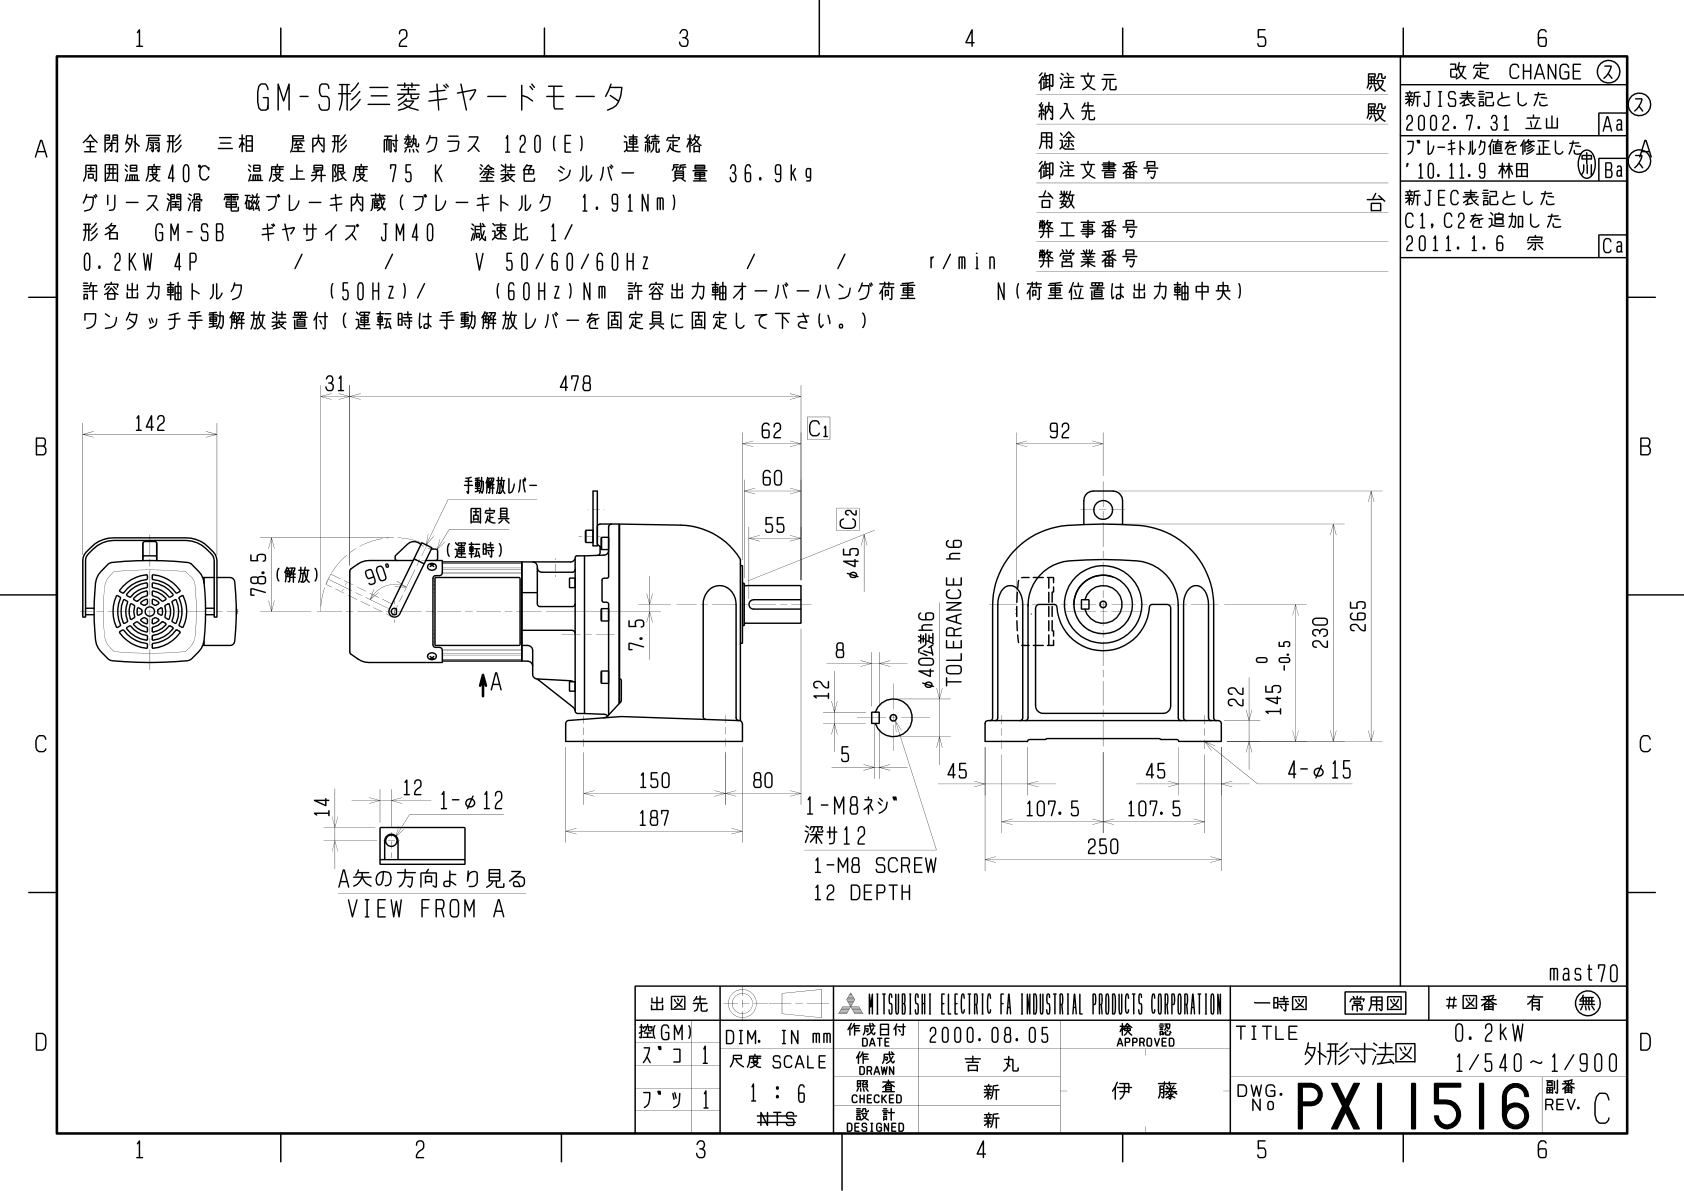GM_S_手動ブレーキ＿三相_脚: (12, 8, 1669, 1191)
